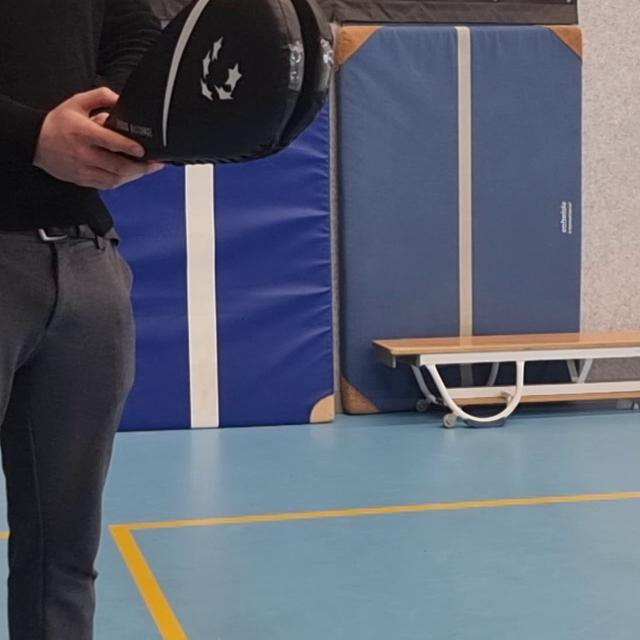paddle: (90, 0, 337, 164)
